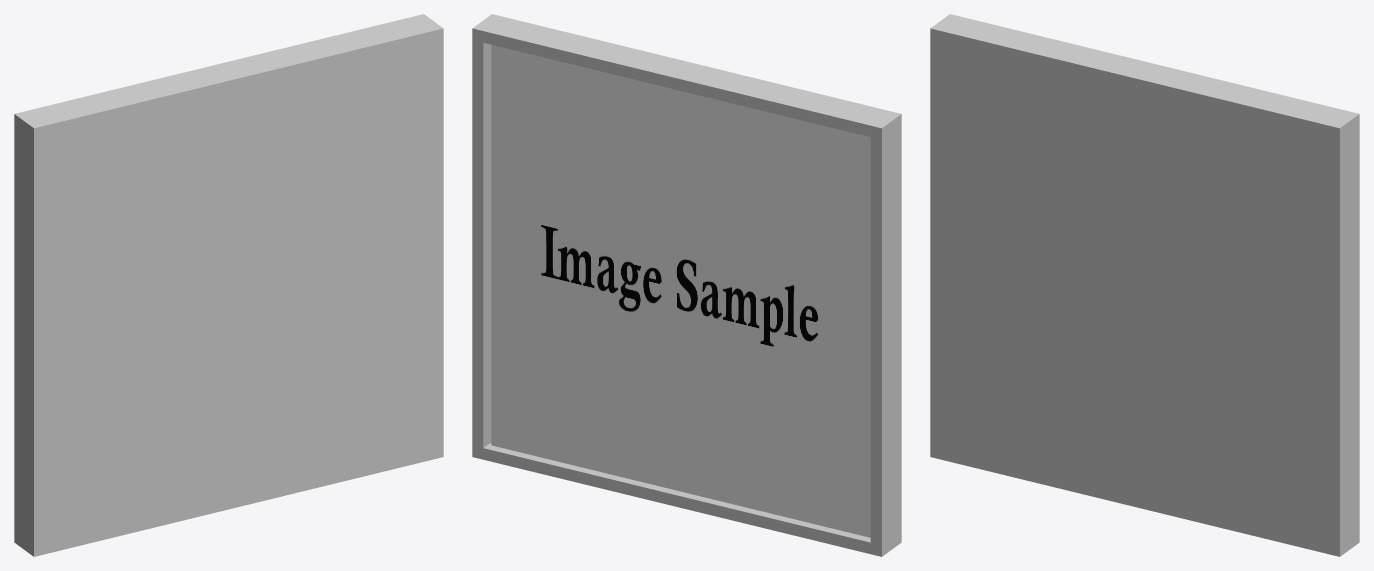
The model's file is frame_var4.fbx.
3 renders of one model, left to right at view 1: azimuth 30°, elevation 25°; view 2: azimuth 150°, elevation 25°; view 3: azimuth 330°, elevation 25°, orthographic.
Parts seen in each view (by area): view 1: Cube.058; view 2: Plane.006, Cube.058; view 3: Cube.058.
Part boxes in pixels (x1,y1,x2,y2): Cube.058: [14, 14, 443, 556]; Plane.006: [491, 44, 870, 537]; Cube.058: [472, 14, 901, 556]; Cube.058: [930, 14, 1359, 556].
Bounding box in the file's own units: 130 × 130 × 10.88.
